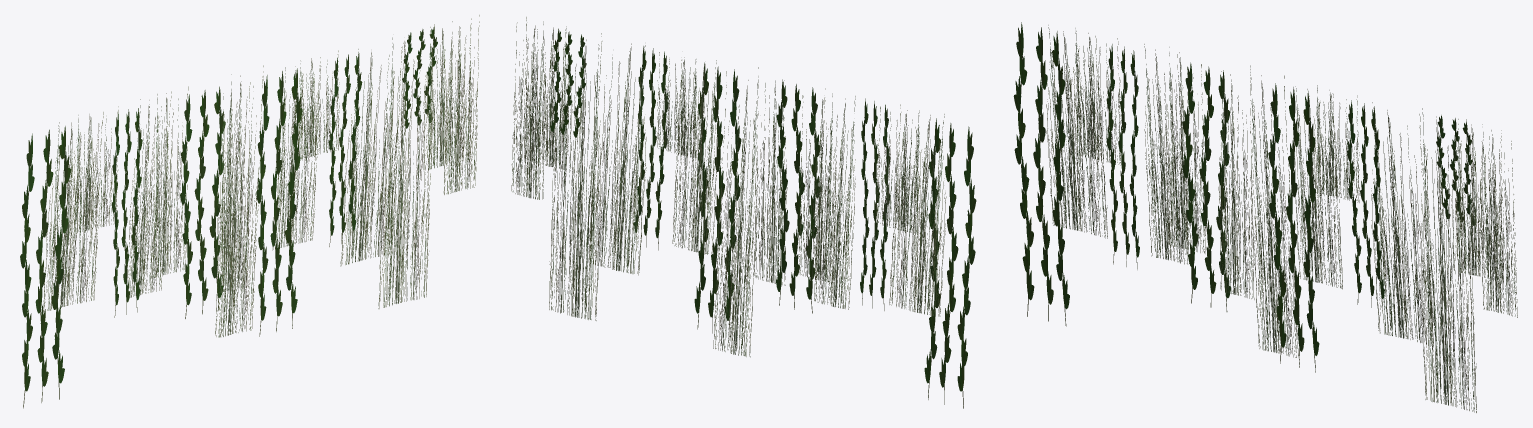
Rendered from ENV_PC_VineCurtain_B.fbx.
The picture shows the model from 3 angles, left to right: view 1: azimuth 30°, elevation 25°; view 2: azimuth 150°, elevation 25°; view 3: azimuth 330°, elevation 25°; orthographic projection. The views are drawn at different scales.
Visible parts, largest first — view 1: ENV_PC_VineCurtain_B_LOD0; view 2: ENV_PC_VineCurtain_B_LOD0; view 3: ENV_PC_VineCurtain_B_LOD0.
Boxes of the visible parts, <box> form: ENV_PC_VineCurtain_B_LOD0: <box>20,15,479,408</box>; ENV_PC_VineCurtain_B_LOD0: <box>511,17,976,408</box>; ENV_PC_VineCurtain_B_LOD0: <box>1013,22,1517,412</box>.
Size of what is drawn, in the model's own units: 7.44 by 4.41 by 0.6221.
